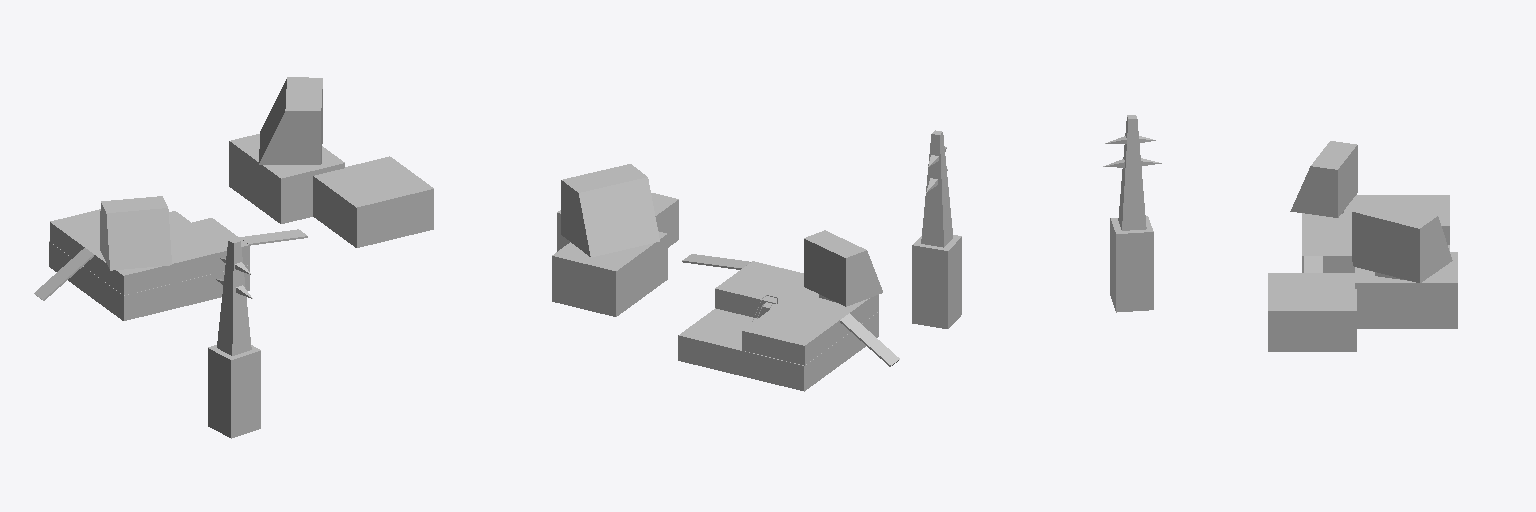
The model's file is Combined Mesh (root_ scene) #235312.obj.
3 views of the same model, side by side, from view 1: azimuth 30°, elevation 25°; view 2: azimuth 150°, elevation 25°; view 3: azimuth 270°, elevation 25° (orthographic).
Parts seen in each view (by area): view 1: Combined Mesh (root: scene)_1, Combined Mesh (root: scene)_0, Combined Mesh (root: scene)_4, Combined Mesh (root: scene)_2, Combined Mesh (root: scene)_3, Combined Mesh (root: scene)_7, Combined Mesh (root: scene)_6; view 2: Combined Mesh (root: scene)_0, Combined Mesh (root: scene)_1, Combined Mesh (root: scene)_2, Combined Mesh (root: scene)_4, Combined Mesh (root: scene)_3, Combined Mesh (root: scene)_7, Combined Mesh (root: scene)_6; view 3: Combined Mesh (root: scene)_1, Combined Mesh (root: scene)_2, Combined Mesh (root: scene)_4, Combined Mesh (root: scene)_0, Combined Mesh (root: scene)_3.
Boxes of the visible parts, x1,y1,x2,y2 form: Combined Mesh (root: scene)_1: [229, 134, 433, 247]; Combined Mesh (root: scene)_0: [49, 209, 249, 320]; Combined Mesh (root: scene)_4: [208, 238, 260, 438]; Combined Mesh (root: scene)_2: [259, 77, 322, 164]; Combined Mesh (root: scene)_3: [100, 196, 171, 270]; Combined Mesh (root: scene)_7: [34, 248, 93, 300]; Combined Mesh (root: scene)_6: [239, 229, 307, 245]; Combined Mesh (root: scene)_0: [678, 261, 878, 391]; Combined Mesh (root: scene)_1: [552, 193, 678, 316]; Combined Mesh (root: scene)_2: [561, 164, 659, 257]; Combined Mesh (root: scene)_4: [912, 130, 961, 328]; Combined Mesh (root: scene)_3: [804, 230, 882, 306]; Combined Mesh (root: scene)_7: [840, 313, 899, 366]; Combined Mesh (root: scene)_6: [682, 254, 750, 269]; Combined Mesh (root: scene)_1: [1268, 252, 1457, 351]; Combined Mesh (root: scene)_2: [1352, 199, 1452, 282]; Combined Mesh (root: scene)_4: [1103, 115, 1161, 312]; Combined Mesh (root: scene)_0: [1302, 195, 1449, 272]; Combined Mesh (root: scene)_3: [1290, 141, 1357, 217].
Bounding box in the file's own units: 55.16 × 28.67 × 49.36.